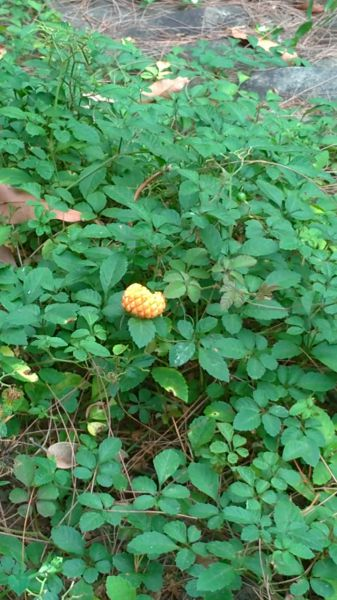eggs: (114, 284, 171, 320)
